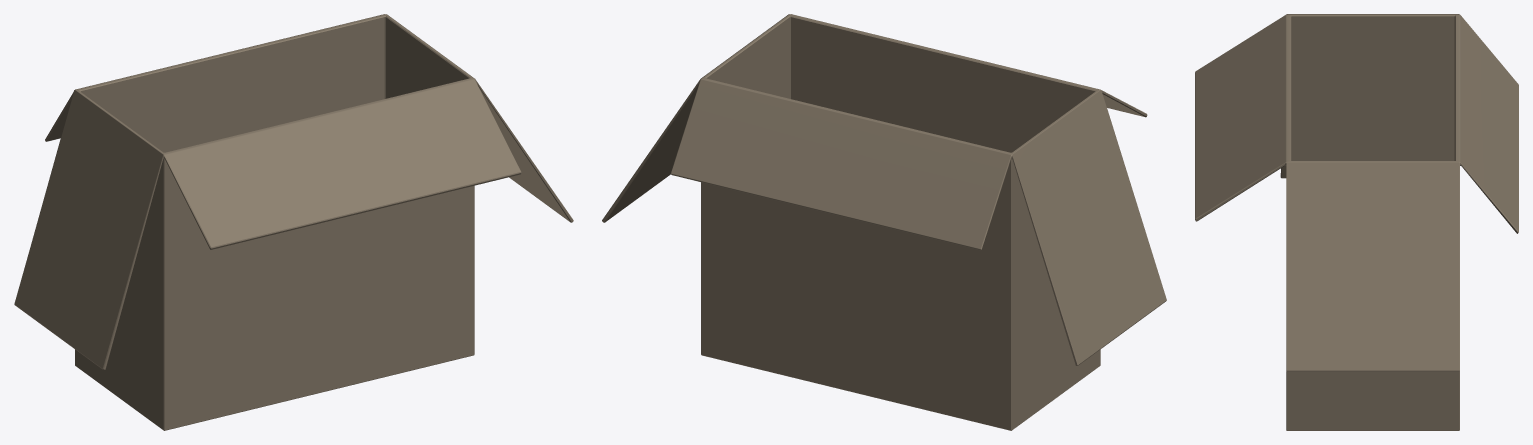
The model's file is A3A_Openbox.fbx.
3 renders of one model, left to right at view 1: azimuth 30°, elevation 25°; view 2: azimuth 150°, elevation 25°; view 3: azimuth 270°, elevation 25°, orthographic. The views are drawn at different scales.
Visible parts, largest first — view 1: pCube1; view 2: pCube1; view 3: pCube1.
Boxes of the visible parts, x1,y1,x2,y2 form: pCube1: [14, 14, 573, 430]; pCube1: [602, 14, 1166, 430]; pCube1: [1195, 14, 1518, 430].
Size of the model in its own units: 3.06 by 1.71 by 1.86.
